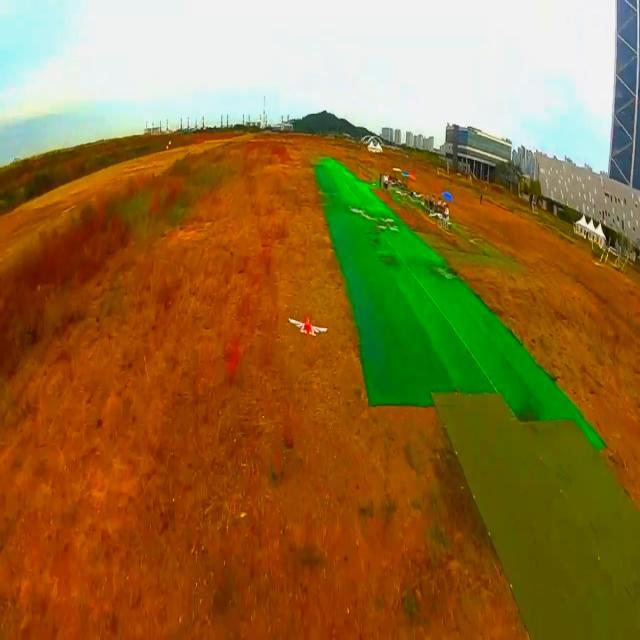iha: (287, 310, 328, 332)
